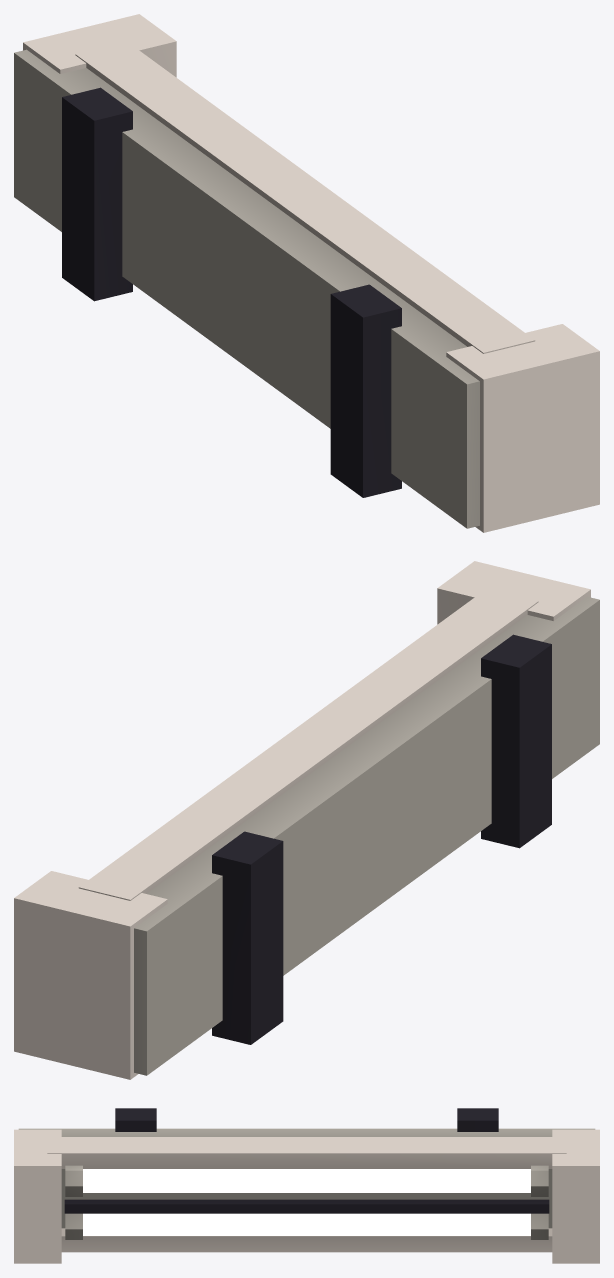
File: prop.fluorescent-strip.lod1.glb
The picture shows the model from 3 angles, top to bottom: view 1: azimuth 30°, elevation 25°; view 2: azimuth 150°, elevation 25°; view 3: azimuth 270°, elevation 25°; orthographic projection. The views are drawn at different scales.
Parts seen in each view (by area): view 1: body; view 2: body; view 3: body.
Boxes of the visible parts, left/top/right/bottom form: body: left=14, top=14, right=599, bottom=532; body: left=14, top=561, right=599, bottom=1079; body: left=14, top=1108, right=599, bottom=1263.
Size of the model in its own units: 0.3645 by 0.4 by 1.85.
